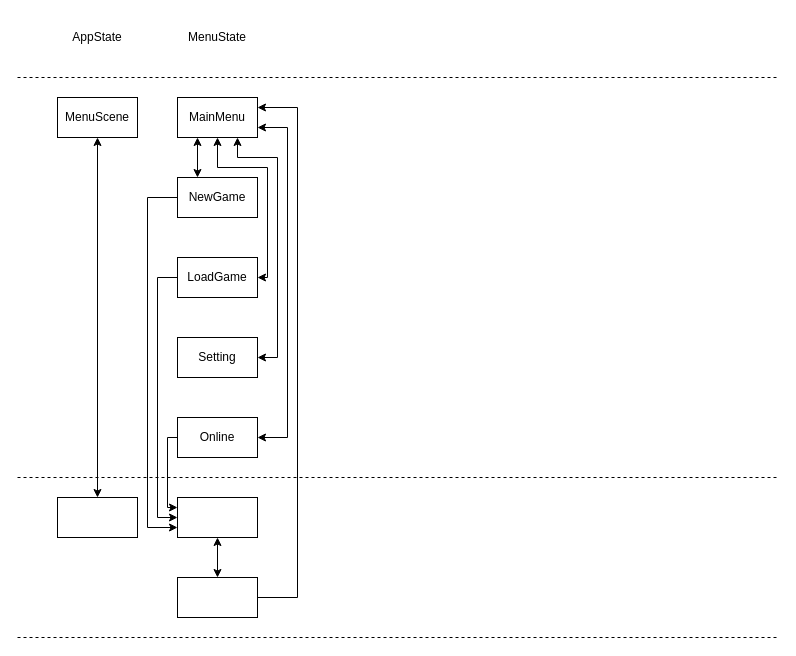
Image size: 796x656. Some labels were removed from this diagram. Each missing label, with the box of its shape:
GameScene: (56, 496, 138, 538)
InGame: (176, 496, 258, 538)
Paused: (176, 576, 258, 618)
